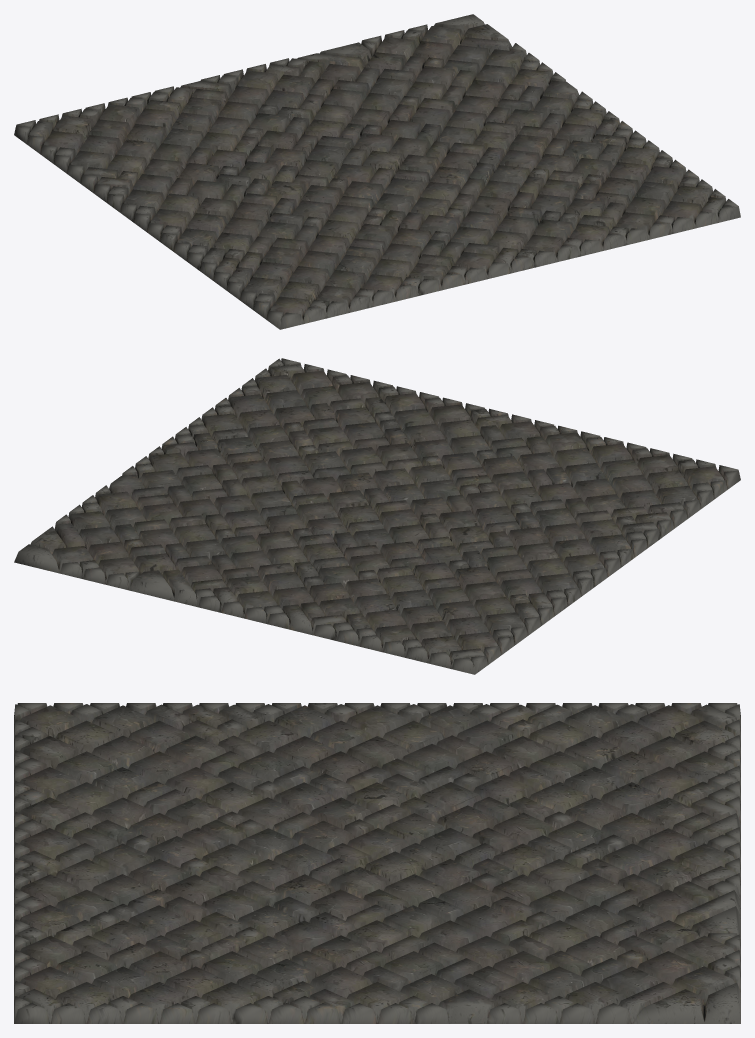
The model's file is losa_camino.glb.
3 views of the same model, one above another, from view 1: azimuth 30°, elevation 25°; view 2: azimuth 150°, elevation 25°; view 3: azimuth 270°, elevation 25° (orthographic). The views are drawn at different scales.
Visible parts, largest first — view 1: Object_2; view 2: Object_2; view 3: Object_2.
Boxes of the visible parts, x1,y1,x2,y2 form: Object_2: [14, 14, 740, 329]; Object_2: [14, 358, 740, 674]; Object_2: [14, 703, 740, 1023].
Size of the model in its own units: 118 by 2.54 by 118.
1 material, 1 textured.
